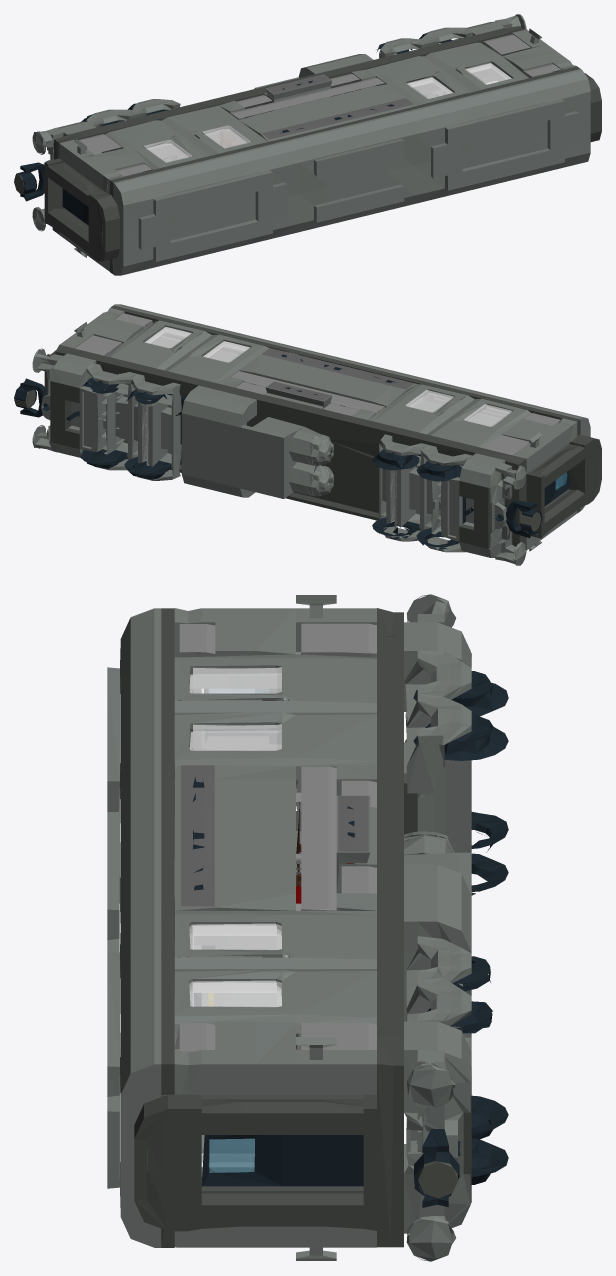
File: baggage-car.glb
3 renders of one model, top to bottom at view 1: azimuth 30°, elevation 25°; view 2: azimuth 150°, elevation 25°; view 3: azimuth 270°, elevation 25°, orthographic. The views are drawn at different scales.
Size of the model in its own units: 283 by 58.58 by 95.22.
